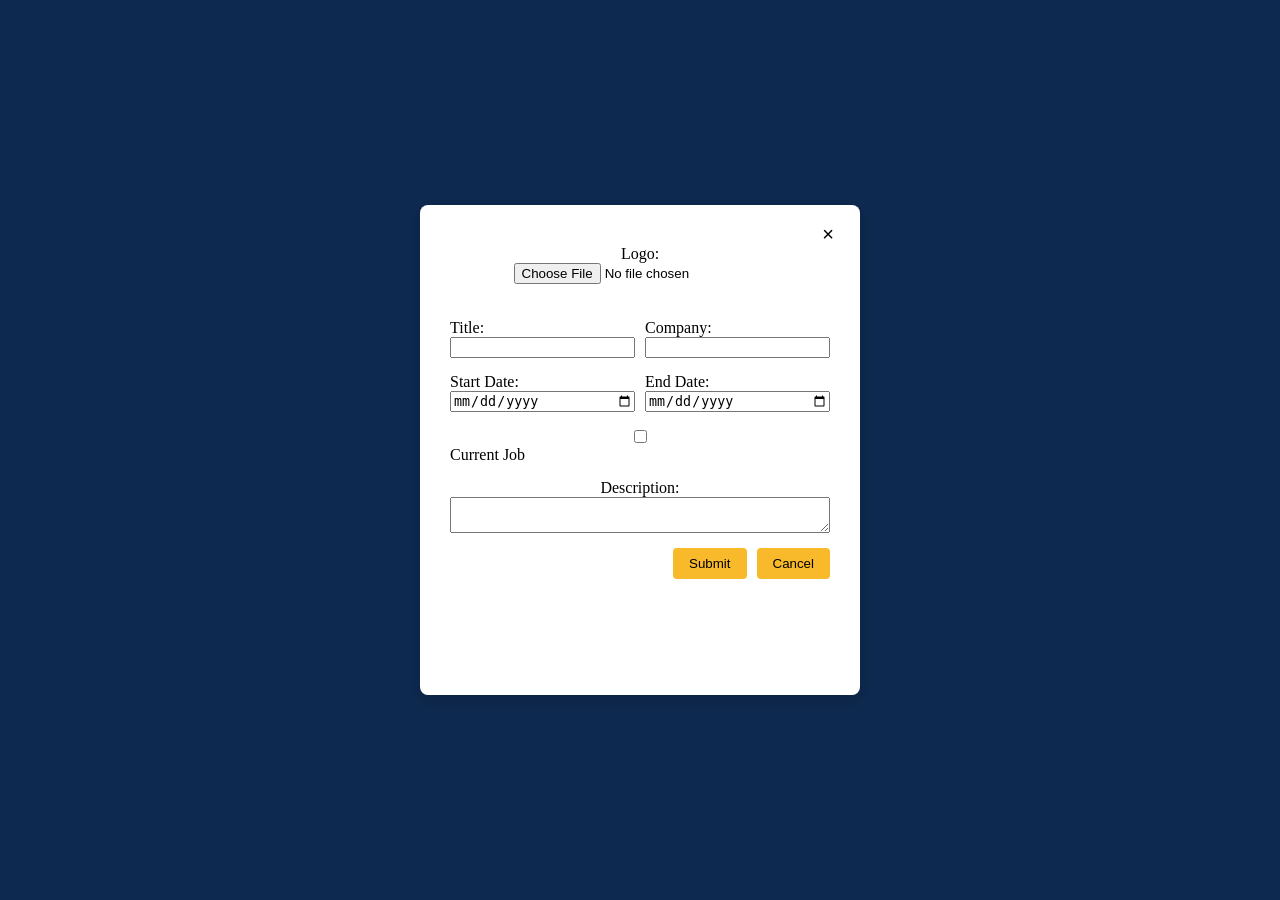
Test: ExperienceForm › resets end date when current job checkbox is toggled
The width and height of the screenshot is (1280, 900).
Step 1. Type "Software Engineer" into the field labelled "Title:" → [542, 348], box [450,337,635,358]
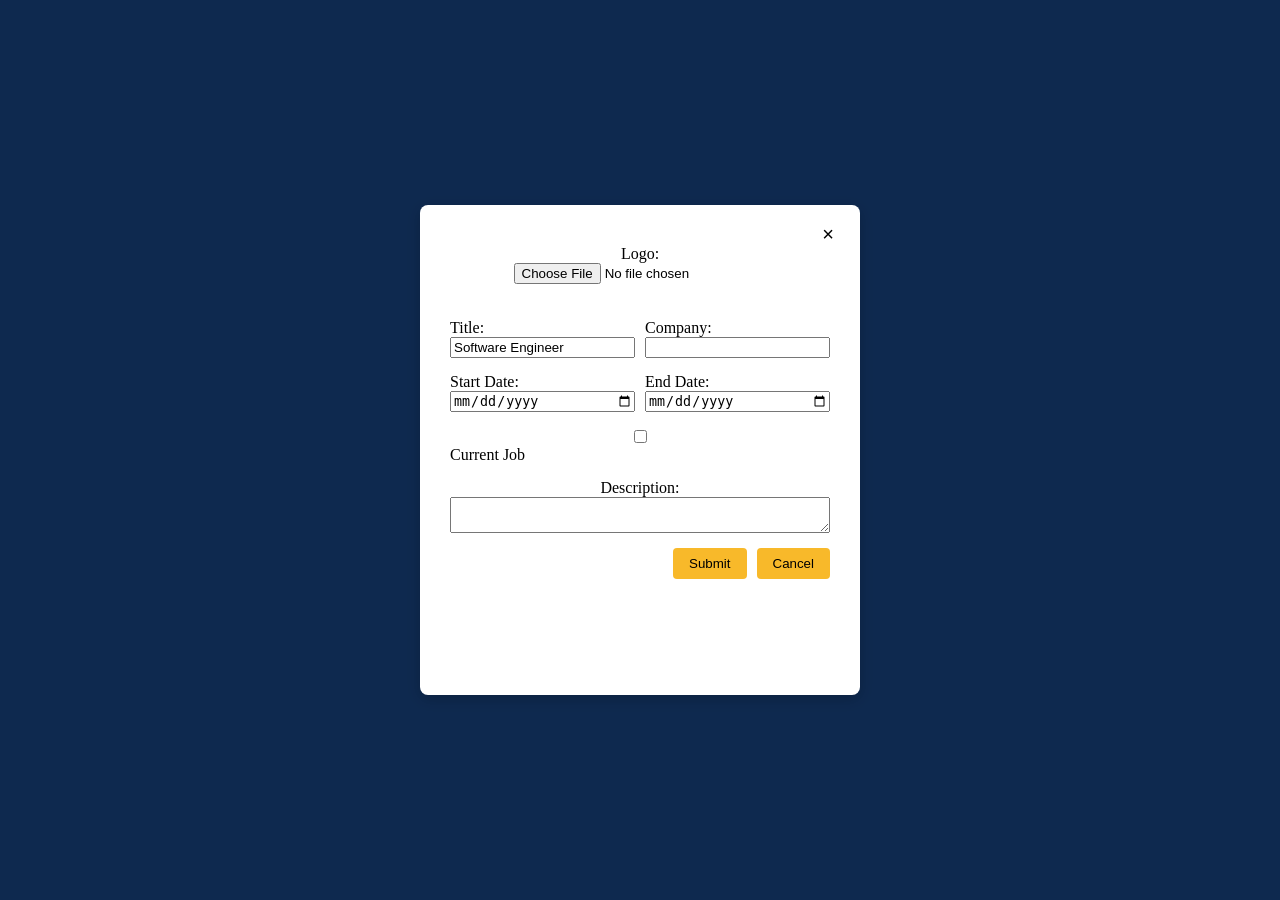
Step 2. Type "Tech Corp" into the field labelled "Company:" → [738, 348], box [645,337,830,358]
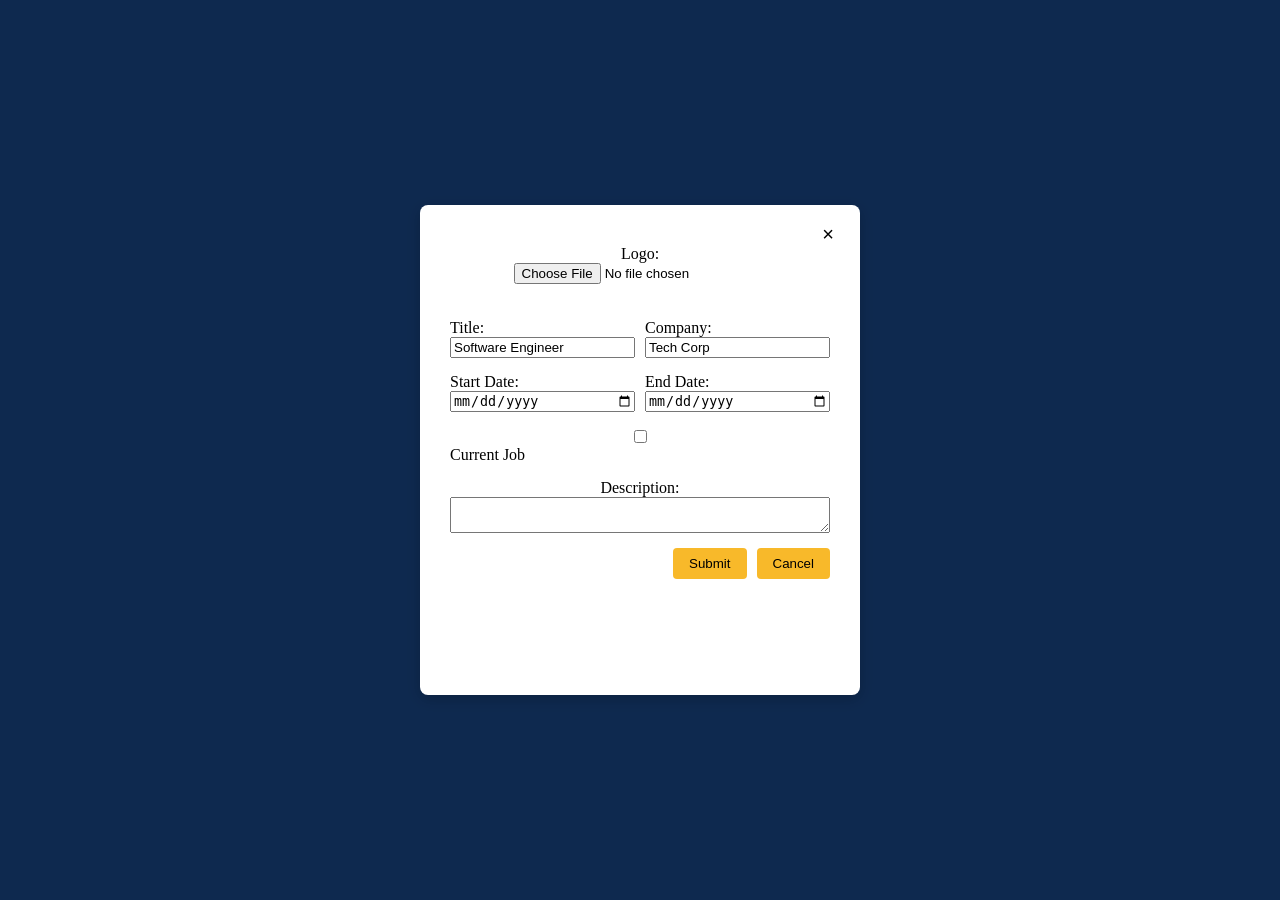
Step 3. Type "2022-01-01" into the date field labelled "Start Date:" → [542, 402], box [450,391,635,412]
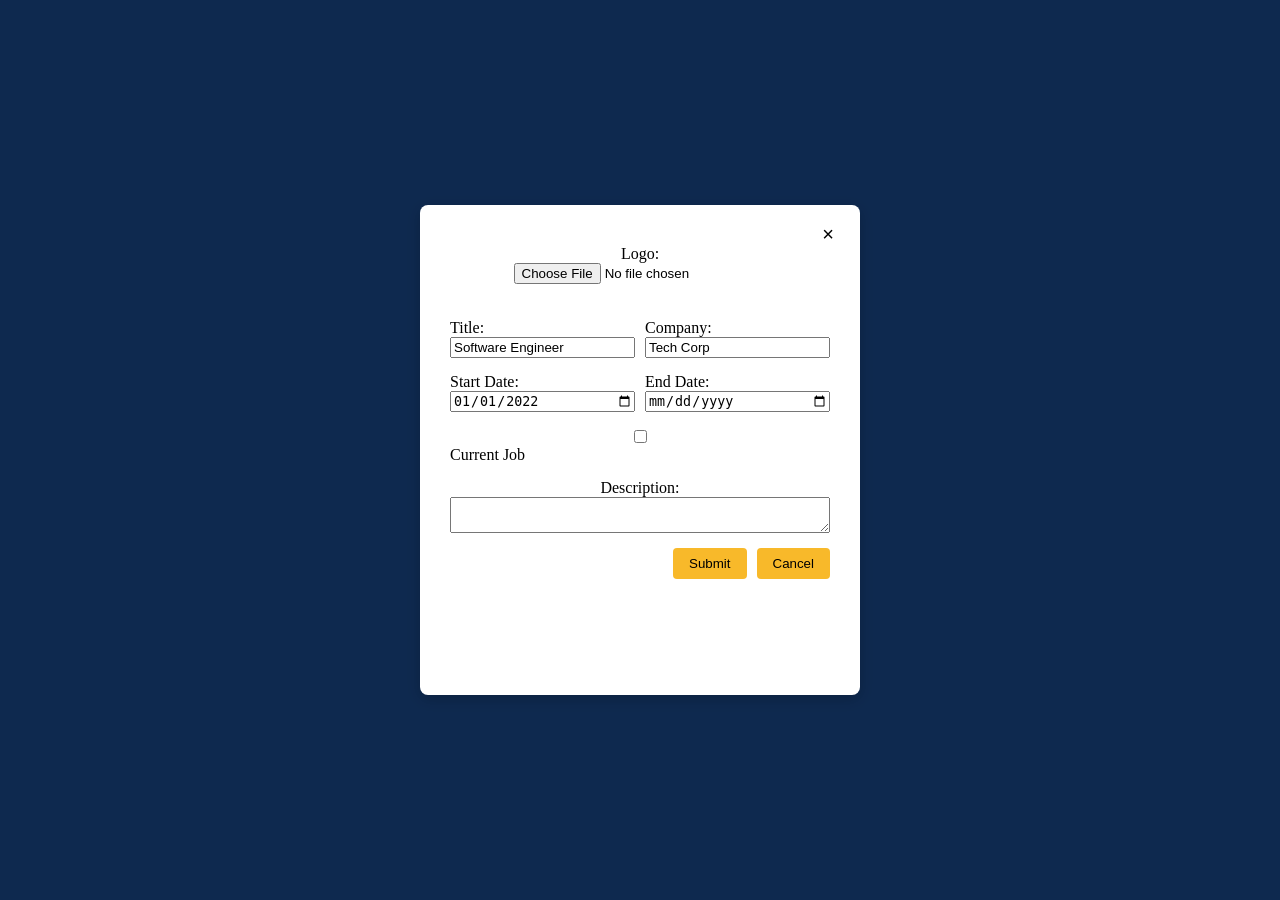
Step 4. Type "2023-01-01" into the date field labelled "End Date:" → [738, 402], box [645,391,830,412]
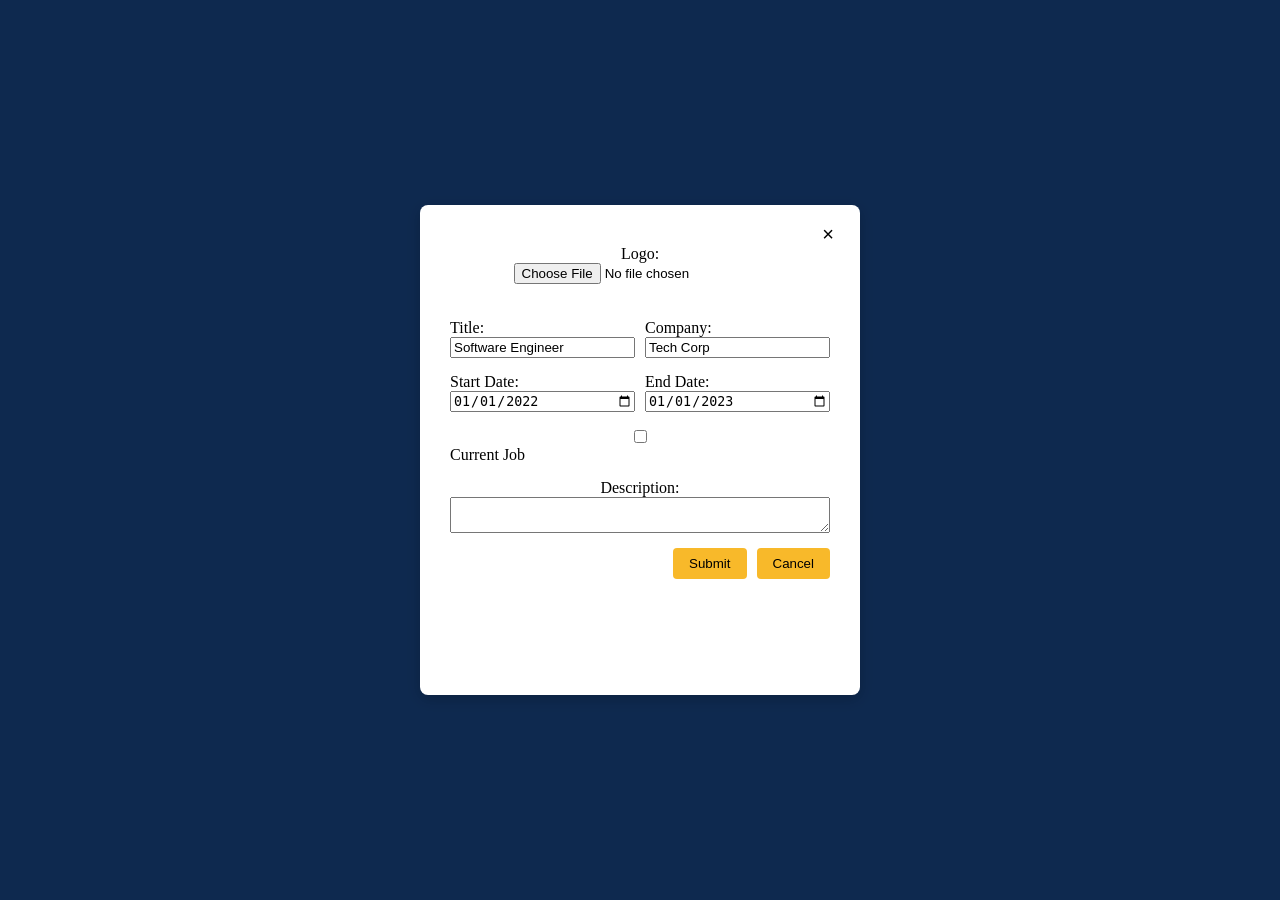
Step 5. Click the checkbox labelled "Current Job" → [640, 437], box [454,430,827,443]
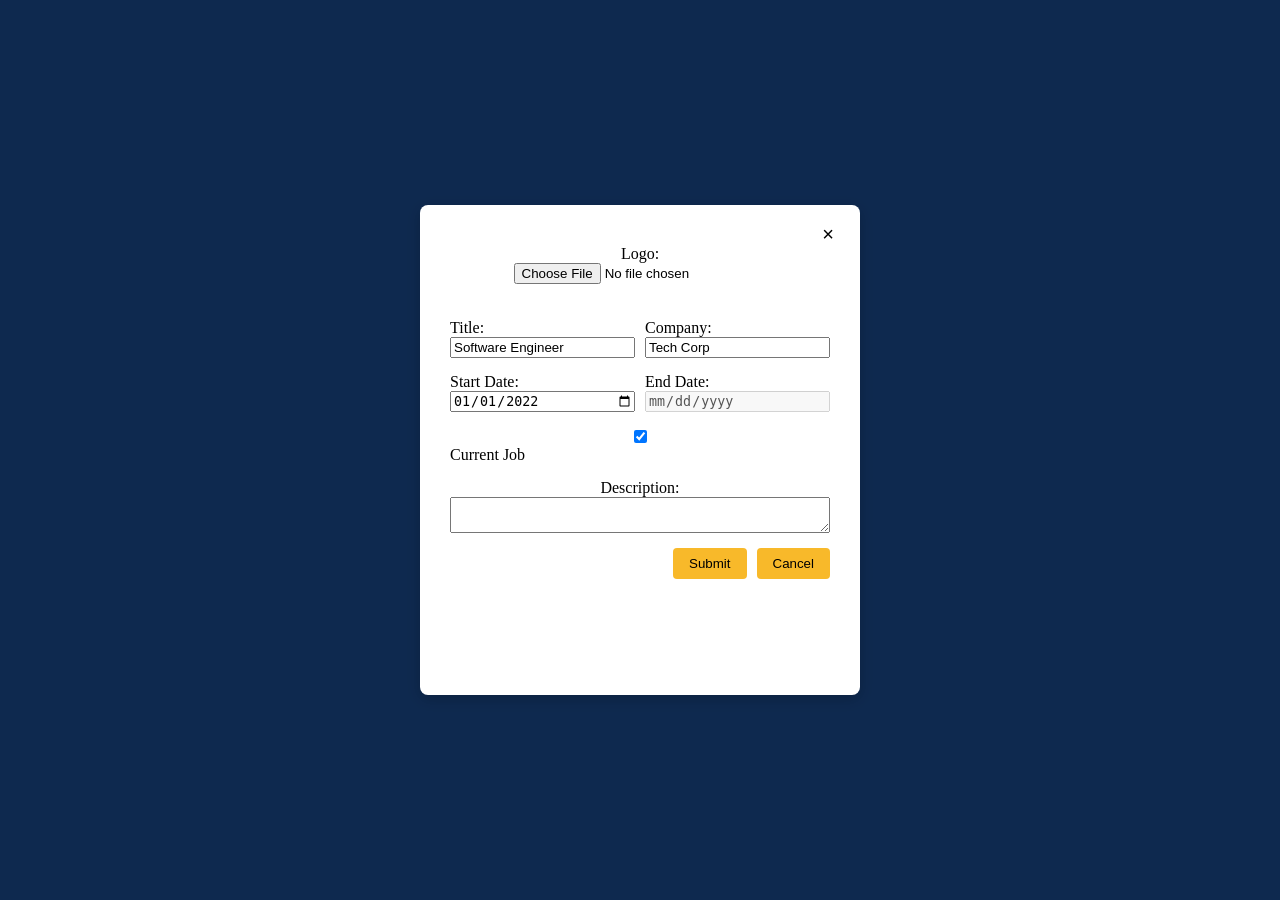
Check: the date field labelled "End Date:" is empty, box [645,391,830,412]
Step 6. Click the checkbox labelled "Current Job" → [640, 437], box [454,430,827,443]
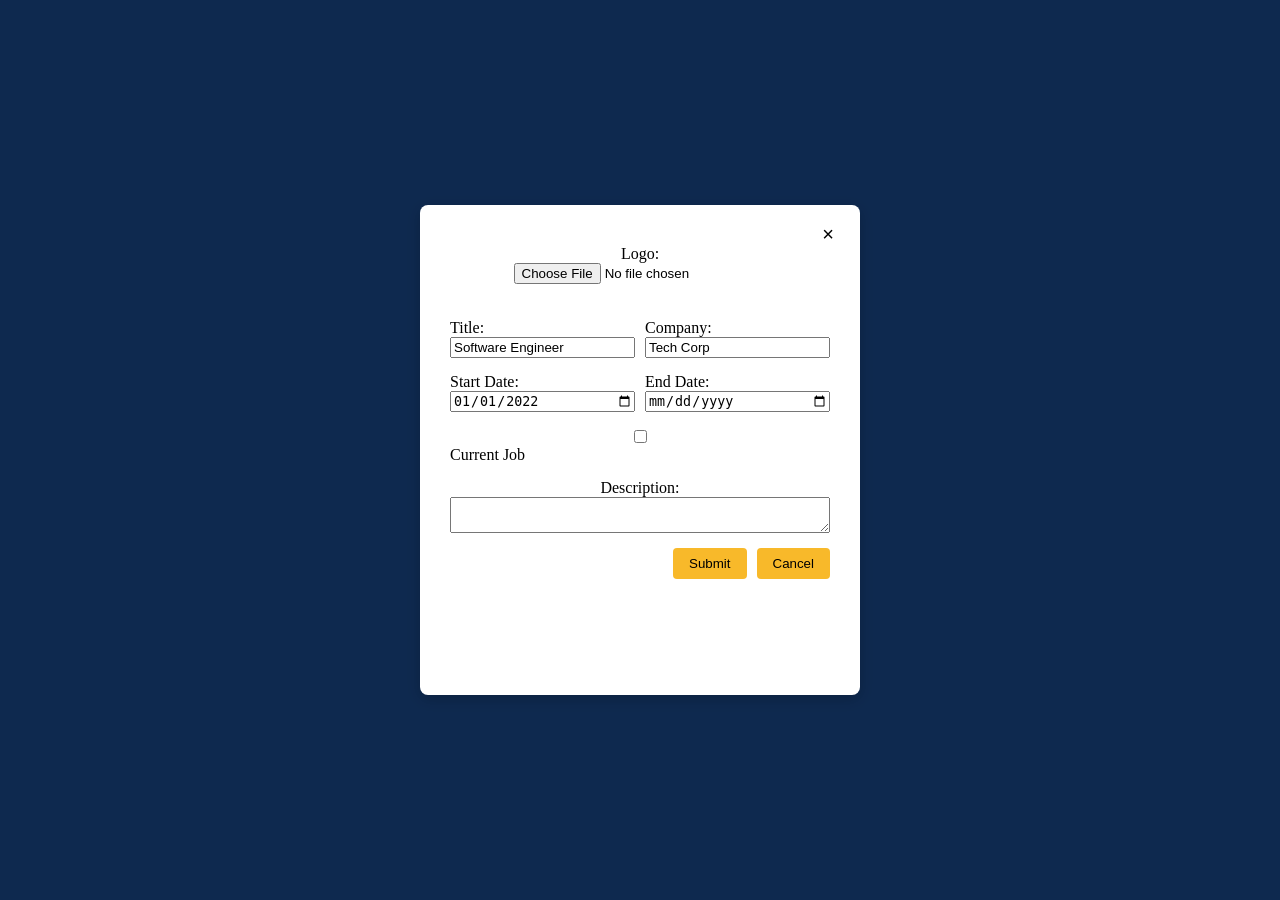
Check: the date field labelled "End Date:" is enabled, box [645,391,830,412]
